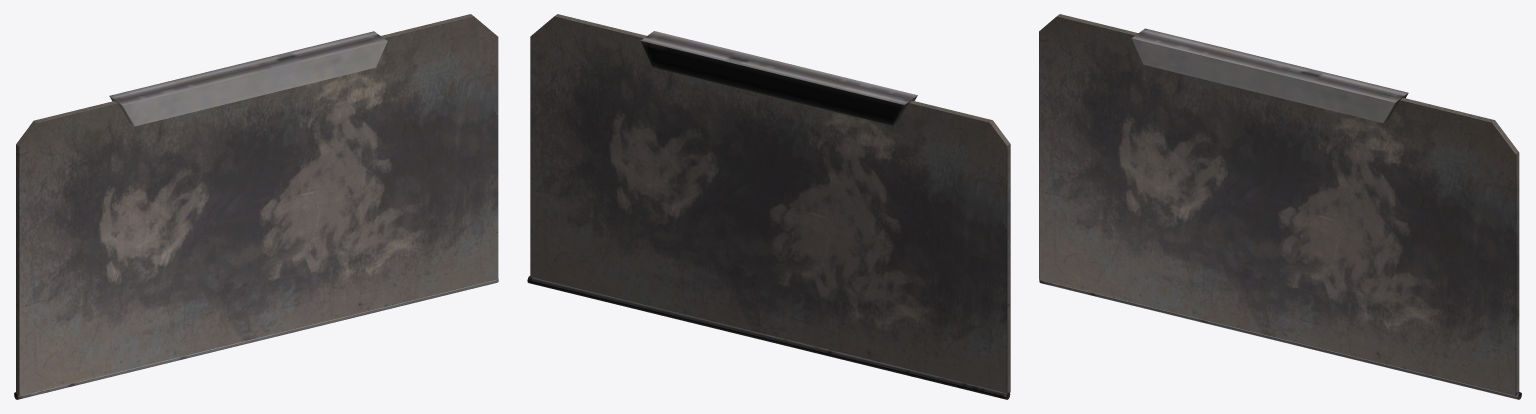
Rendered from glass_door.dae.
3 views of the same model, side by side, from view 1: azimuth 30°, elevation 25°; view 2: azimuth 150°, elevation 25°; view 3: azimuth 330°, elevation 25° (orthographic).
Parts seen in each view (by area): view 1: glass_door, polySurface3, polySurface1; view 2: glass_door, polySurface3, polySurface1; view 3: glass_door, polySurface3, polySurface1.
Part boxes in pixels (x1,y1,x2,y2): glass_door: (16,14,498,396); polySurface3: (109,31,387,126); polySurface1: (14,278,498,399); glass_door: (530,14,1010,392); polySurface3: (641,31,917,125); polySurface1: (527,276,1010,399); glass_door: (1039,14,1519,395); polySurface3: (1131,28,1408,123); polySurface1: (1039,280,1521,399).
Size of the model in its own units: 0.5598 by 0.3066 by 0.0274.
